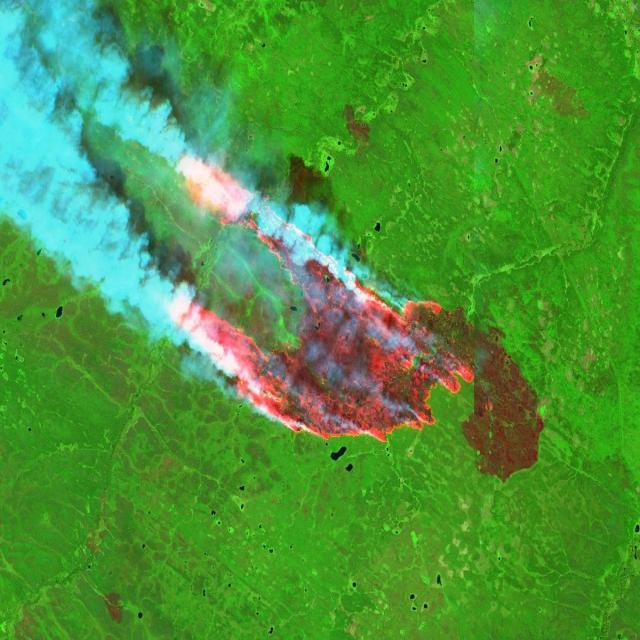fire: (151, 145, 476, 449)
